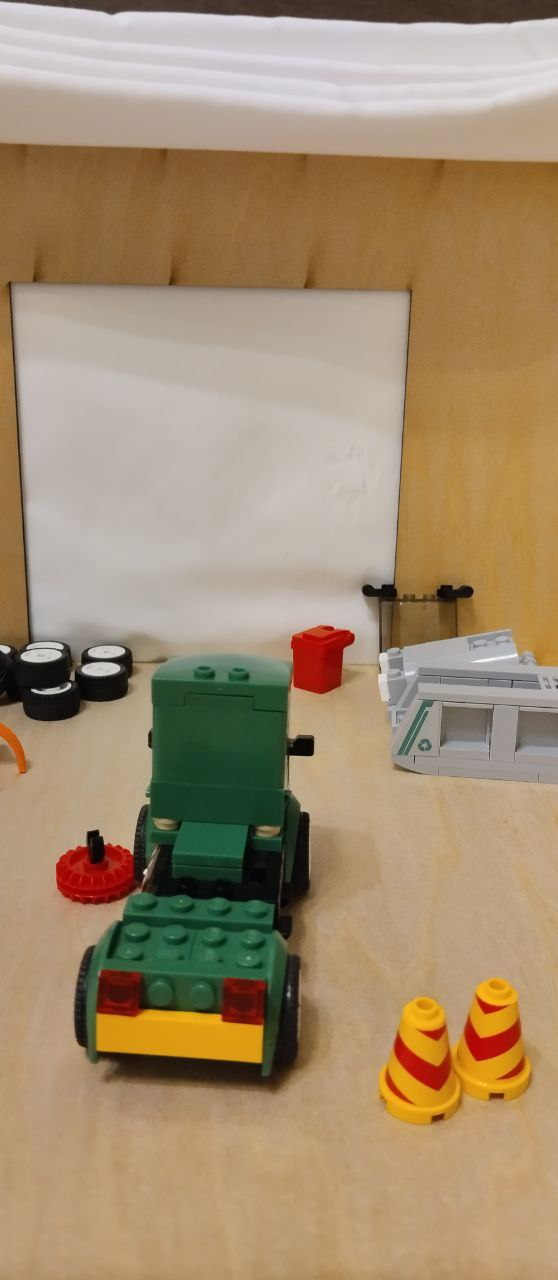Cone: (373, 993, 463, 1128), (454, 977, 542, 1106)
Object Red: (278, 616, 360, 696)
Truck: (64, 648, 330, 1077)
